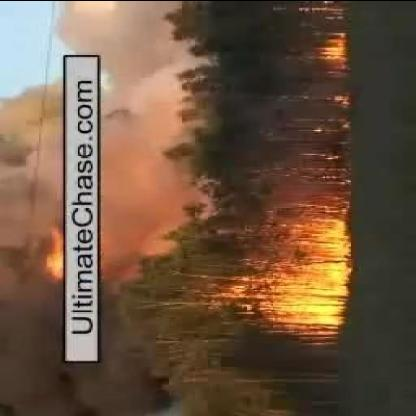-: (0, 98, 57, 382), (102, 56, 166, 256)
foggia-v2-map80-epoch100 - v1 4323: (251, 220, 347, 320)
